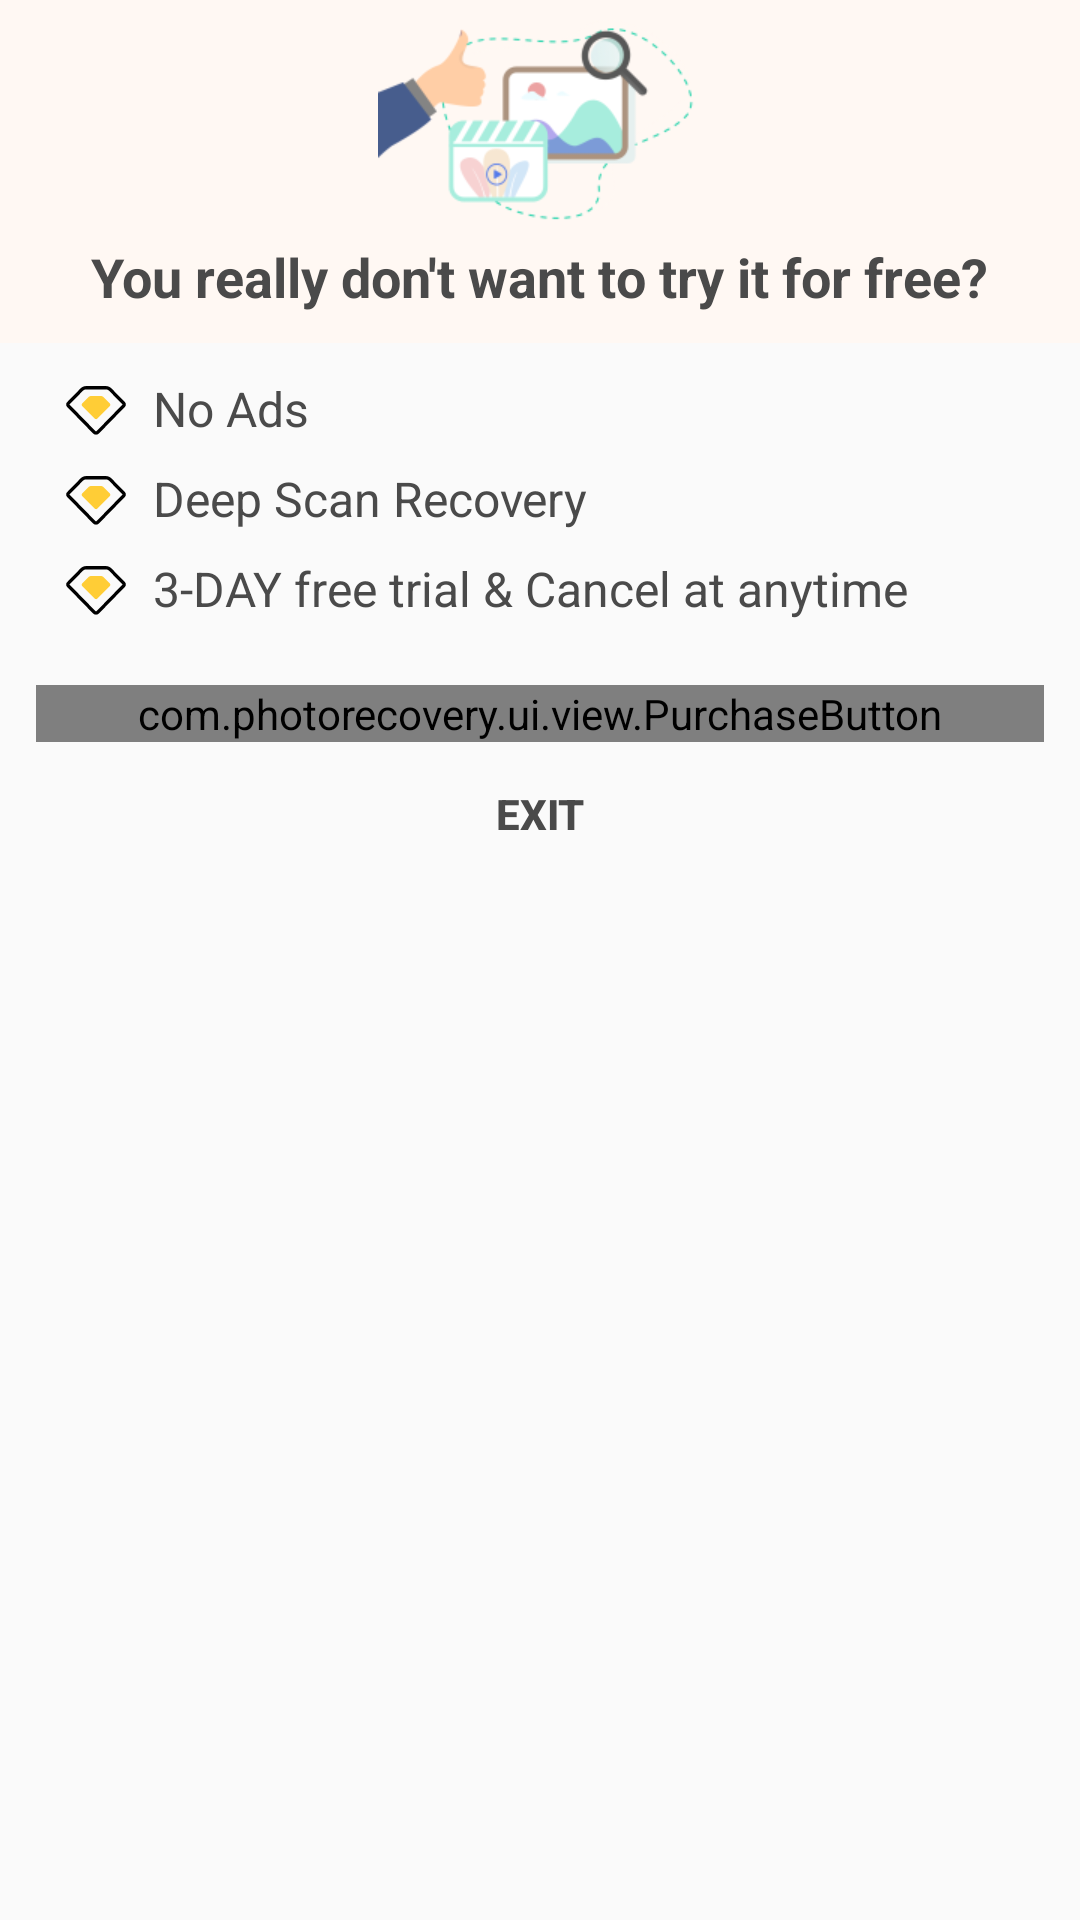

Screen size 1080px×1920px. Icon name, then its box in pixels as (x1, y1, x2, y2):
premium: (66, 386, 126, 435), (66, 476, 126, 525), (66, 566, 126, 615)
